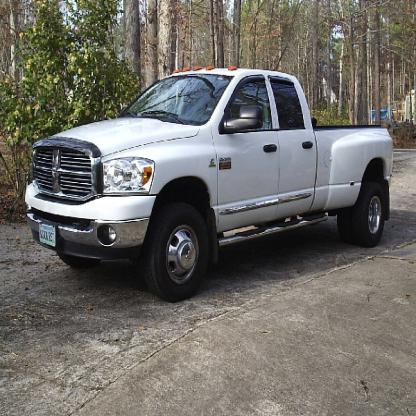Vehicle: (22, 62, 398, 307)
